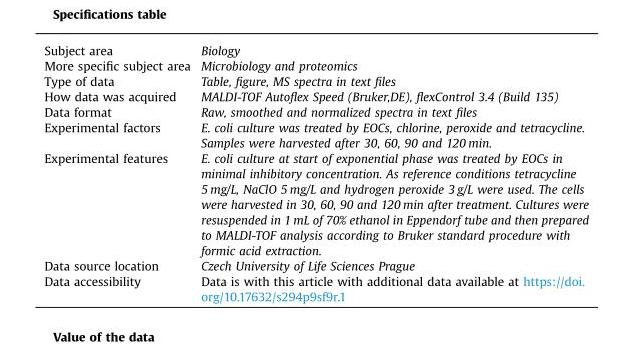table: (43, 42, 588, 303)
table column: (194, 42, 588, 303), (43, 42, 194, 303)
table row: (43, 149, 588, 257), (43, 272, 588, 303), (43, 119, 588, 149), (43, 57, 588, 73), (43, 103, 588, 119), (43, 42, 588, 57), (43, 73, 588, 88), (43, 88, 588, 103), (43, 257, 588, 272)
